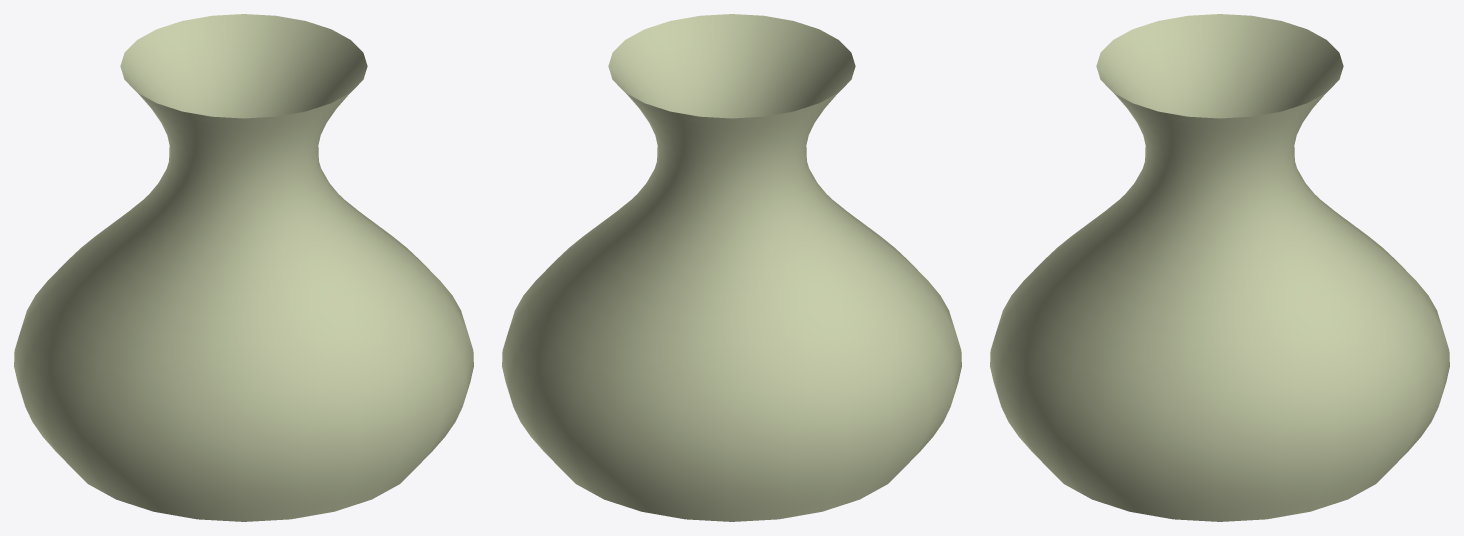
Rendered from ae260878-939c-4270-913d-50dbf3ea7daf.glb.
The picture shows the model from 3 angles, left to right: view 1: azimuth 30°, elevation 25°; view 2: azimuth 150°, elevation 25°; view 3: azimuth 270°, elevation 25°; orthographic projection.
Visible parts, largest first — view 1: Physical Object Scan #189; view 2: Physical Object Scan #189; view 3: Physical Object Scan #189.
Boxes of the visible parts, x1=… form: Physical Object Scan #189: x1=14, y1=14, x2=473, y2=521; Physical Object Scan #189: x1=502, y1=14, x2=961, y2=521; Physical Object Scan #189: x1=990, y1=14, x2=1449, y2=521.
Size of the model in its own units: 1.21 by 1.1 by 1.21.
